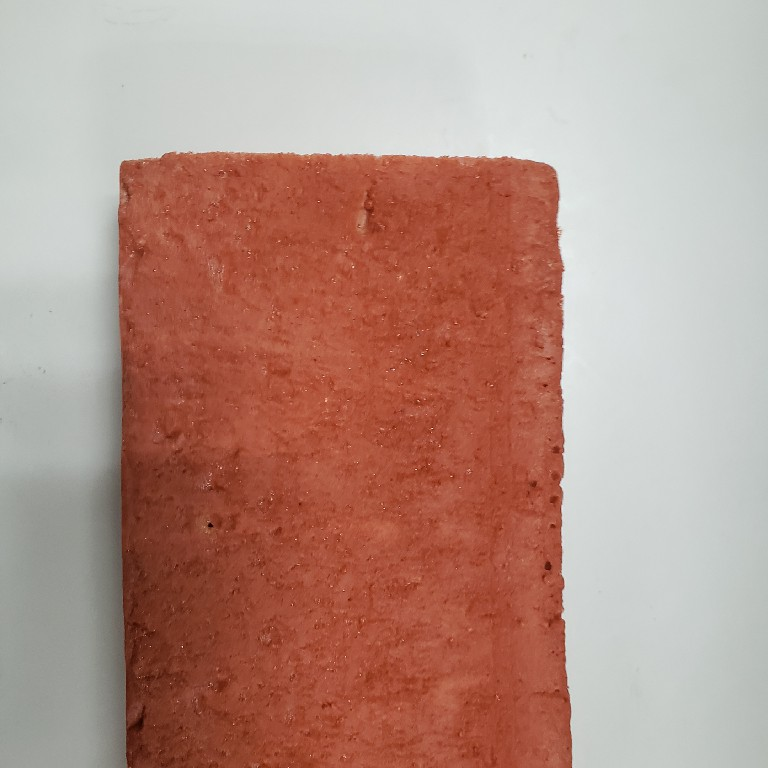brick: (107, 142, 591, 768)
